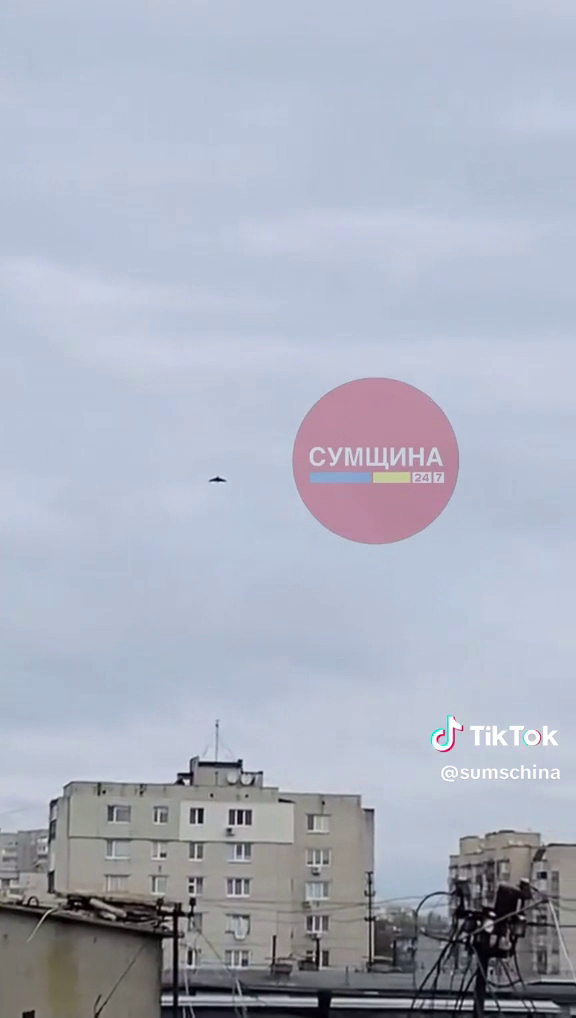shahed: (200, 468, 233, 493)
